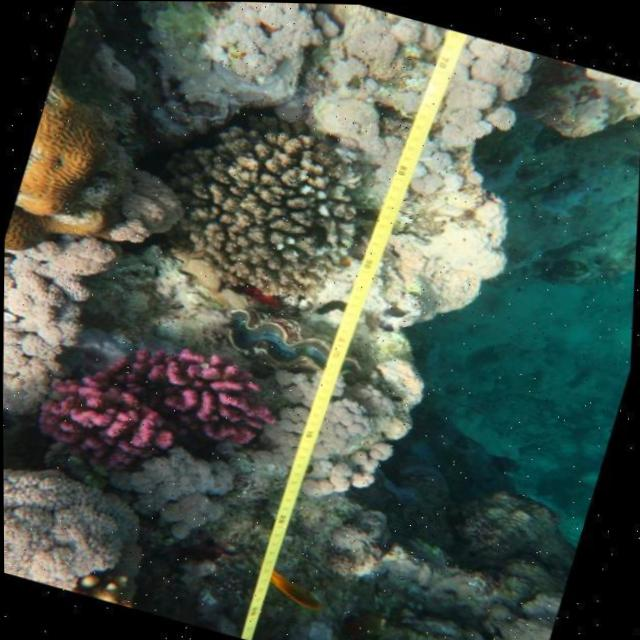Dead Coral: (182, 111, 358, 296)
Healthy Coral: (27, 307, 296, 513), (2, 89, 111, 272)
